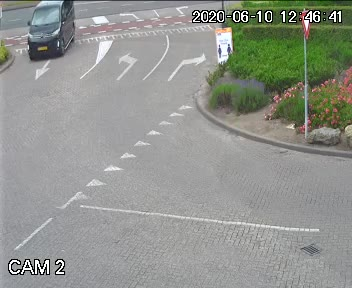car: (23, 0, 76, 68)
